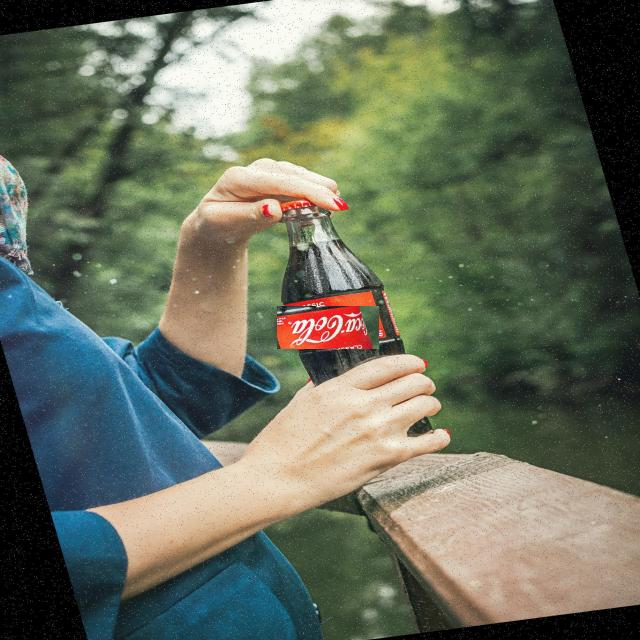coca-cola: (278, 306, 380, 349)
